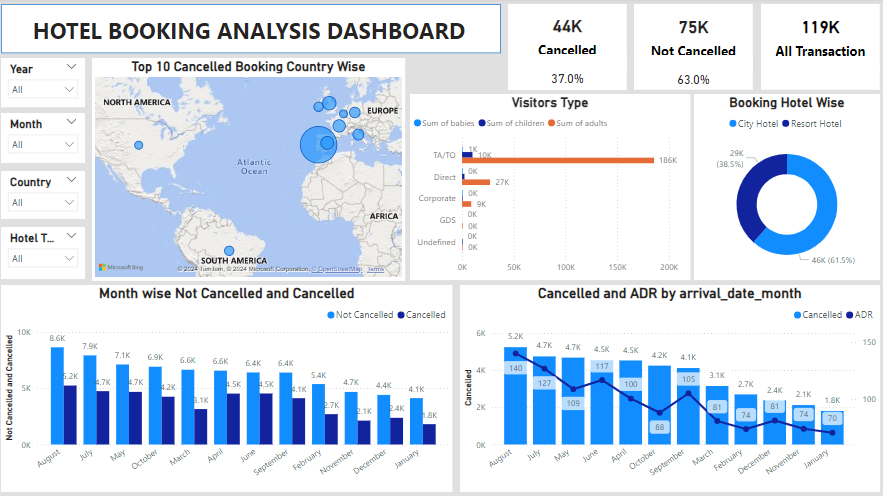

What the dashboard file says about the page in this screenshot:
{"tool":"powerbi","page":{"name":"Page 1","canvas":[1280,720],"ordinal":0},"visuals":[{"type":"shape","box":[5.9,8.9,719.8,70.9],"z":0},{"type":"textbox","box":[0,19.2,725.7,60.6],"z":1000},{"type":"slicer","title":"Date Year","fields":{"Values":["hotel_bookings.arrival_date_year"]},"box":[5.9,85.7,121.2,70.9],"z":2000},{"type":"slicer","fields":{"Values":["hotel_bookings.arrival_date_month"]},"box":[5.9,165.5,121.2,72.4],"z":3000},{"type":"slicer","fields":{"Values":["hotel_bookings.country"]},"box":[5.9,249.8,121.2,69.5],"z":4000},{"type":"cardVisual","fields":{"Data":["all_measures.Cancelled"]},"box":[736.1,8.9,171.5,98.2],"z":5000,"group":"g1"},{"type":"cardVisual","fields":{"Data":["all_measures.All Transaction"]},"box":[1099.7,8.9,171.5,99.1],"z":5000,"group":"g3"},{"type":"cardVisual","fields":{"Data":["all_measures.Not Cancelled"]},"box":[917.9,8.9,171.5,99.1],"z":6000,"group":"g2"},{"type":"clusteredColumnChart","title":"Month wise Not Cancelled and Cancelled","fields":{"Y":["all_measures.Not Cancelled","all_measures.Cancelled"],"Category":["hotel_bookings.arrival_date_month"]},"box":[5.9,413.9,650.3,298],"z":6000},{"type":"group","id":"g1","title":"Group 1","box":[736.1,8.9,171.5,124.2],"z":7000},{"type":"cardVisual","fields":{"Data":["all_measures.% Not Cancelled"]},"box":[917.9,82.9,171.5,50.2],"z":7000,"group":"g2"},{"type":"group","id":"g2","title":"Group 2","box":[917.9,8.9,171.5,124.2],"z":8000},{"type":"cardVisual","fields":{"Data":["all_measures.% Cancelled"]},"box":[736.1,81.2,171.5,51.8],"z":8000,"group":"g1"},{"type":"cardVisual","fields":{"Data":["all_measures.All Transaction"]},"box":[1099.7,93,171.5,40.1],"z":8000,"group":"g3"},{"type":"group","id":"g3","title":"Group 3","box":[1099.7,8.9,171.5,124.2],"z":9000},{"type":"map","title":"Top 10 Cancelled Booking Country Wise","fields":{"Category":["hotel_bookings.country"],"Size":["all_measures.Cancelled"]},"box":[137.5,85.7,450.8,320.7],"z":10000},{"type":"slicer","fields":{"Values":["hotel_bookings.hotel"]},"box":[5.9,329.6,121.2,75.4],"z":10001},{"type":"lineStackedColumnComboChart","fields":{"Category":["hotel_bookings.arrival_date_month"],"Y":["all_measures.Cancelled"],"Y2":["all_measures.ADR"]},"box":[666.6,413.9,604.5,298],"z":10002},{"type":"donutChart","title":"Booking Hotel Wise","fields":{"Category":["hotel_bookings.hotel"],"Y":["all_measures.Not Cancelled"]},"box":[1003.6,138.9,267.5,267.5],"z":10003},{"type":"clusteredBarChart","title":"Visitors Type","fields":{"Y":["Sum(hotel_bookings.babies)","Sum(hotel_bookings.children)","Sum(hotel_bookings.adults)"],"Category":["hotel_bookings.distribution_channel"]},"box":[594.2,138.9,403.5,267.5],"z":10004}]}

Visuals, with their boxes in screenshot pixels (x1, y1, x2, y2), scaled from the page's 1280x720 canvas onto the 883x496 screenshot:
shape: select_region(4, 6, 501, 55)
textbox: select_region(0, 13, 501, 55)
"Date Year" slicer: select_region(4, 59, 88, 108)
slicer - hotel_bookings.arrival_date_month: select_region(4, 114, 88, 164)
slicer - hotel_bookings.country: select_region(4, 172, 88, 220)
cardVisual - all_measures.Cancelled: select_region(508, 6, 626, 74)
cardVisual - all_measures.All Transaction: select_region(759, 6, 877, 74)
cardVisual - all_measures.Not Cancelled: select_region(633, 6, 752, 74)
"Month wise Not Cancelled and Cancelled" clusteredColumnChart: select_region(4, 285, 453, 490)
"Group 1" group: select_region(508, 6, 626, 92)
cardVisual - all_measures.% Not Cancelled: select_region(633, 57, 752, 92)
"Group 2" group: select_region(633, 6, 752, 92)
cardVisual - all_measures.% Cancelled: select_region(508, 56, 626, 92)
cardVisual - all_measures.All Transaction: select_region(759, 64, 877, 92)
"Group 3" group: select_region(759, 6, 877, 92)
"Top 10 Cancelled Booking Country Wise" map: select_region(95, 59, 406, 280)
slicer - hotel_bookings.hotel: select_region(4, 227, 88, 279)
lineStackedColumnComboChart - hotel_bookings.arrival_date_month x all_measures.Cancelled: select_region(460, 285, 877, 490)
"Booking Hotel Wise" donutChart: select_region(692, 96, 877, 280)
"Visitors Type" clusteredBarChart: select_region(410, 96, 688, 280)
